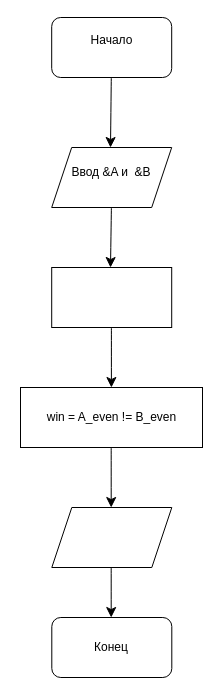
This 223x695 diagram has some shape labels left out. Each missing label, with the centre of its shape:
Вывод printf: the point at 111,537
Вычисление чётности A_even и B_even: the point at 111,297
